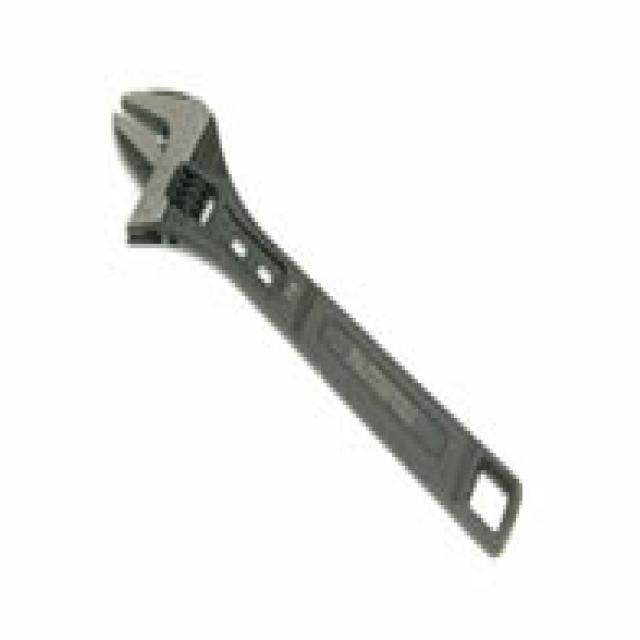wrench: (68, 46, 570, 566)
